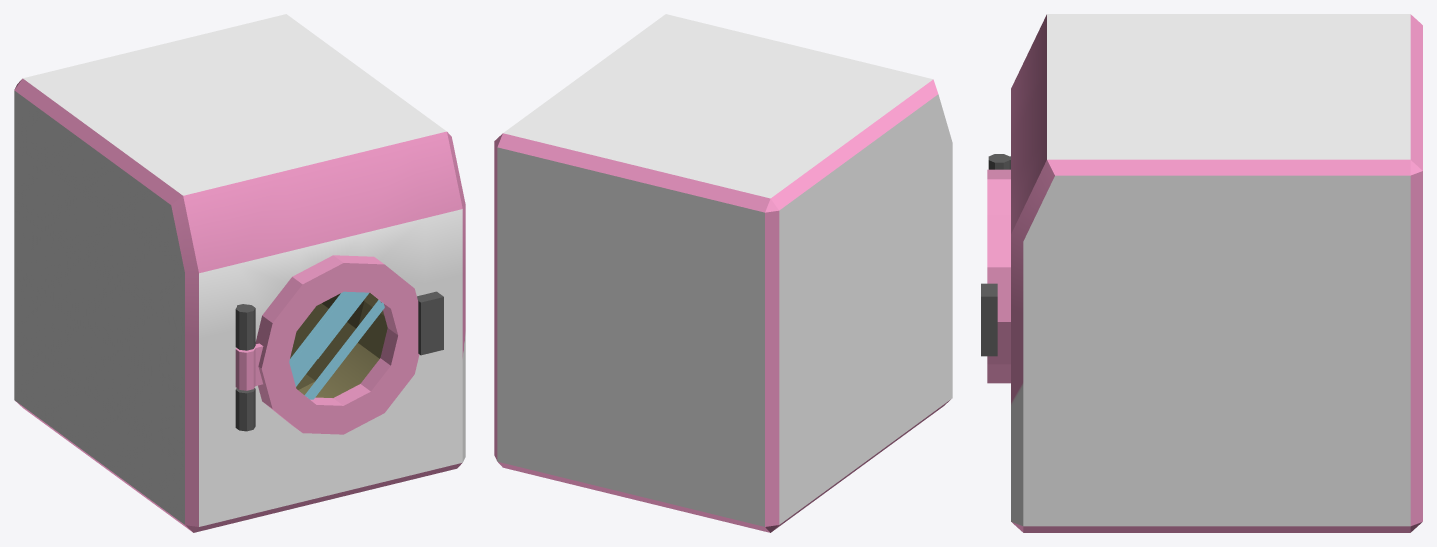
File: washing machine3.fbx
3 renders of one model, left to right at view 1: azimuth 30°, elevation 25°; view 2: azimuth 150°, elevation 25°; view 3: azimuth 270°, elevation 25°, orthographic. The views are drawn at different scales.
Parts seen in each view (by area): view 1: cover, door, washing_machine_glass, handler, door_joint, joint_upper, joint_lower; view 2: cover; view 3: cover, door, handler.
Part boxes in pixels (x1,y1,x2,y2): cover: [14, 14, 465, 532]; door: [255, 255, 419, 434]; washing_machine_glass: [289, 291, 384, 399]; handler: [417, 291, 443, 355]; door_joint: [235, 343, 263, 390]; joint_upper: [235, 304, 255, 350]; joint_lower: [235, 388, 255, 431]; cover: [494, 14, 952, 532]; cover: [1011, 14, 1422, 532]; door: [987, 169, 1010, 383]; handler: [981, 283, 997, 356].
Size of the model in its own units: 152 by 171 by 183.
